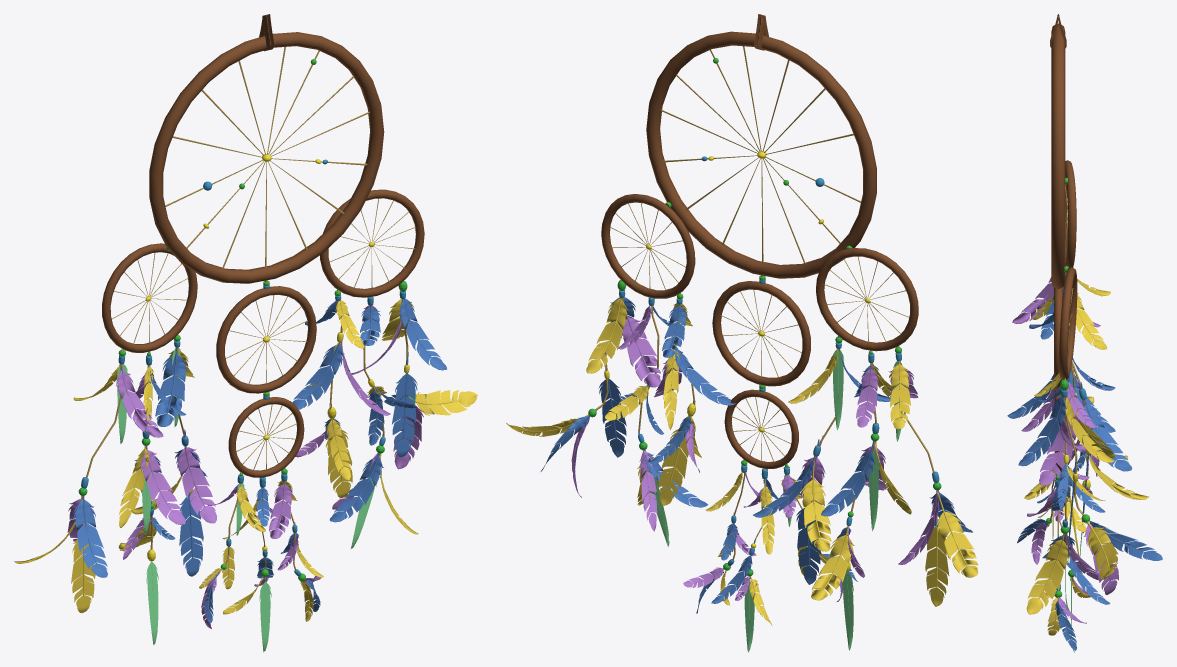
File: Dreamcatcher.fbx
3 renders of one model, left to right at view 1: azimuth 30°, elevation 25°; view 2: azimuth 150°, elevation 25°; view 3: azimuth 270°, elevation 25°, orthographic.
Visible parts, largest first — view 1: Torus, Torus.003, Plane, Torus.002, Torus.001, Torus.006, Cube.014, Cube.022, Cylinder.021, Cube.009, Cube.020, Cube.004 (+14 smaller); view 2: Torus, Torus.002, Torus.003, Torus.001, Plane, Torus.006, Cylinder.026, Cylinder.025, Cube.049, Cylinder.023, Cylinder.032, Cube.007 (+12 smaller); view 3: Torus, Cube.038, Torus.001, Torus.002, Cube.050, Cube.047, Cube.044, Cube.013, Cube.046, Cube.049, Cube.016, Torus.003 (+22 smaller).
Boxes of the visible parts, bbox=[...] form: Torus: bbox=[149, 32, 384, 283]; Torus.003: bbox=[216, 286, 316, 393]; Plane: bbox=[165, 47, 369, 268]; Torus.002: bbox=[102, 243, 197, 352]; Torus.001: bbox=[320, 189, 424, 297]; Torus.006: bbox=[228, 397, 304, 477]; Cube.014: bbox=[176, 429, 216, 523]; Cube.022: bbox=[73, 477, 107, 577]; Cylinder.021: bbox=[155, 347, 187, 426]; Cube.009: bbox=[392, 374, 417, 457]; Cube.020: bbox=[140, 446, 185, 524]; Cube.004: bbox=[179, 495, 203, 576]; Torus: bbox=[646, 31, 876, 278]; Torus.002: bbox=[816, 248, 918, 351]; Torus.003: bbox=[712, 281, 810, 386]; Torus.001: bbox=[601, 194, 695, 298]; Plane: bbox=[660, 46, 860, 263]; Torus.006: bbox=[724, 389, 798, 468]; Cylinder.026: bbox=[936, 492, 978, 577]; Cylinder.025: bbox=[801, 461, 831, 551]; Cube.049: bbox=[586, 280, 628, 373]; Cylinder.023: bbox=[811, 526, 855, 600]; Cylinder.032: bbox=[621, 301, 660, 387]; Cube.007: bbox=[925, 527, 949, 606]; Torus: bbox=[1051, 23, 1065, 289]; Cube.038: bbox=[1026, 534, 1071, 614]; Torus.001: bbox=[1059, 267, 1077, 379]; Torus.002: bbox=[1065, 160, 1076, 272]; Cube.050: bbox=[1018, 379, 1066, 466]; Cube.047: bbox=[1079, 509, 1117, 579]; Cube.044: bbox=[1039, 390, 1080, 485]; Cube.013: bbox=[1080, 382, 1132, 471]; Cube.046: bbox=[1089, 520, 1162, 560]; Cube.049: bbox=[1065, 378, 1114, 462]; Cube.016: bbox=[1076, 293, 1107, 349]; Torus.003: bbox=[1054, 287, 1062, 390].
Bounding box in the file's own units: 618 × 810 × 180.
